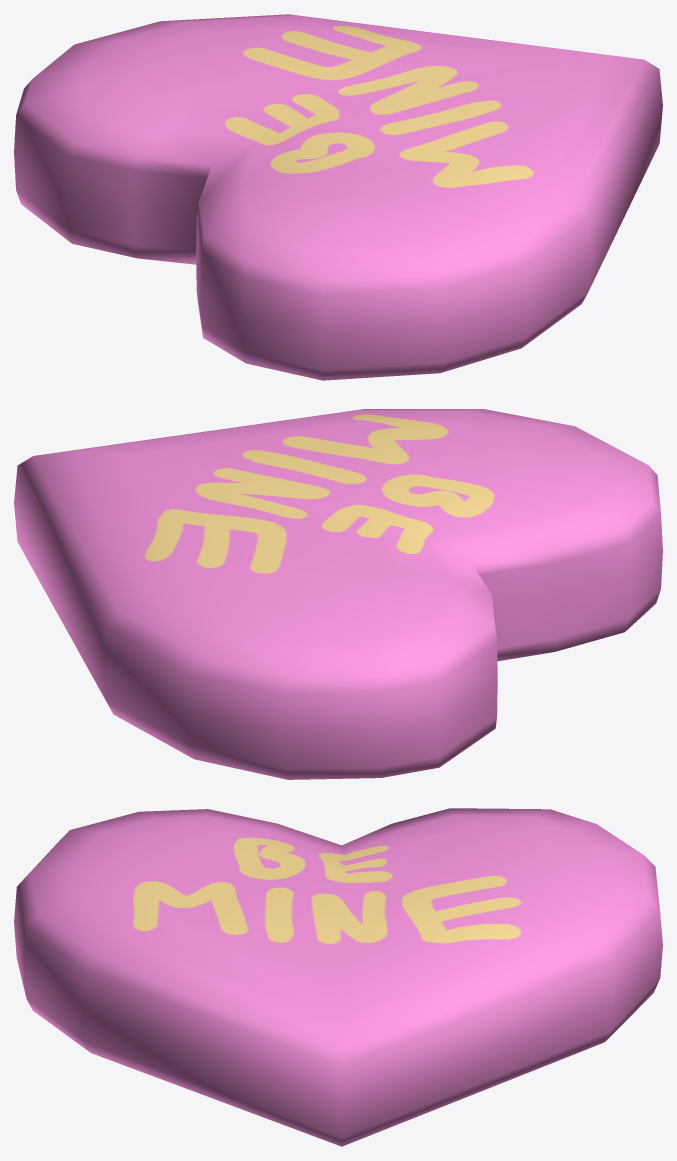
File: candyheart3.fbx
The picture shows the model from 3 angles, top to bottom: view 1: azimuth 30°, elevation 25°; view 2: azimuth 150°, elevation 25°; view 3: azimuth 270°, elevation 25°; orthographic projection. The views are drawn at different scales.
Parts seen in each view (by area): view 1: candyheart3; view 2: candyheart3; view 3: candyheart3.
Part boxes in pixels (bbox=[...]): candyheart3: bbox=[14, 14, 662, 380]; candyheart3: bbox=[14, 409, 662, 779]; candyheart3: bbox=[14, 808, 662, 1146].
Bounding box in the file's own units: 148 × 38.79 × 162.
